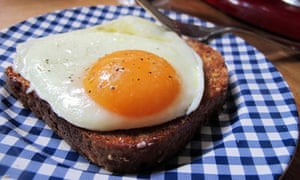fried egg: (32, 36, 196, 114)
slice of bread: (69, 126, 190, 174)
